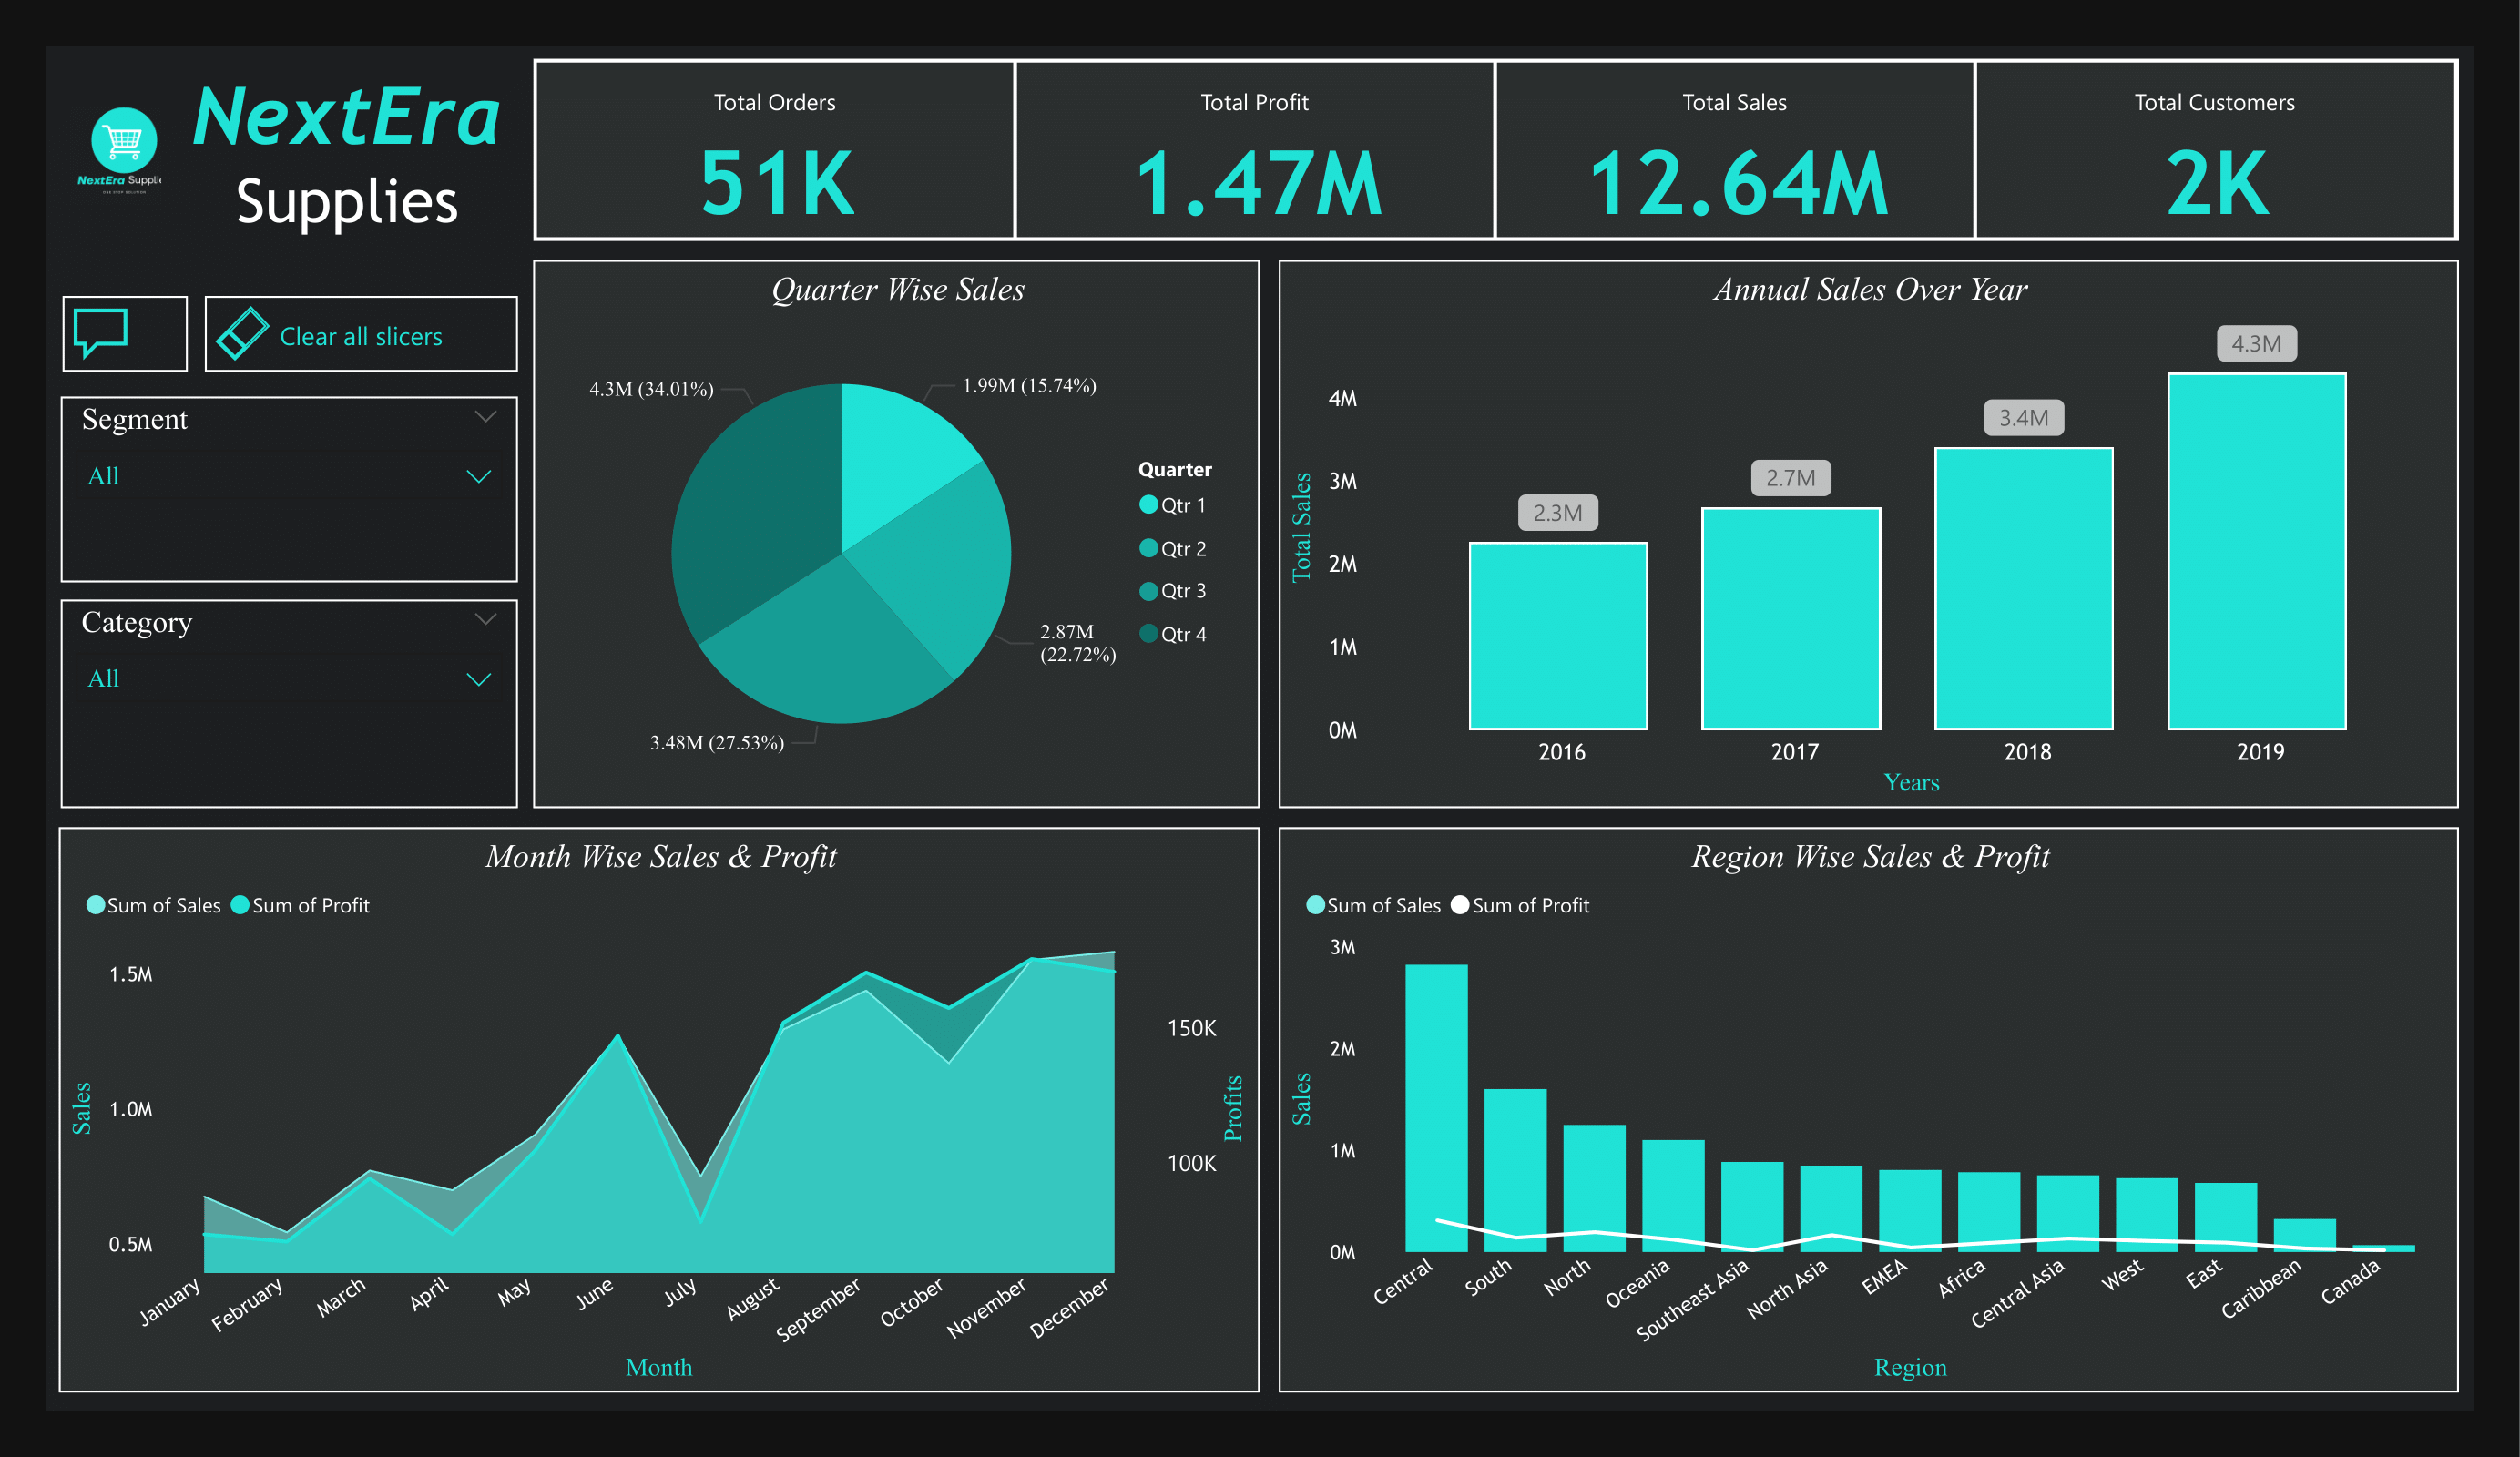

The dashboard page shown, as its layout file describes it:
{"tool":"powerbi","page":{"name":"Page 2","canvas":[1280,720],"ordinal":1},"visuals":[{"type":"cardVisual","fields":{"Data":["Measure Table.Total Orders","Measure Table.Total Profit","Measure Table.Total Sales","Measure Table.Total Customers"]},"box":[257,7,1015.1,96.5],"z":0},{"type":"lineStackedColumnComboChart","title":"Annual Sales Over Year","fields":{"Category":["Orders.Order Date.Variation.Date Hierarchy.Year"],"Y":["Sum(Orders.Sales)"]},"box":[650,112.8,622.1,289.5],"z":1000},{"type":"image","box":[7,22,68,67],"z":2000},{"type":"textbox","box":[61,7,196,97],"z":3000},{"type":"areaChart","title":"Month Wise Sales & Profit","fields":{"Category":["Orders.Order Date.Variation.Date Hierarchy.Month"],"Y":["Sum(Orders.Sales)"],"Y2":["Sum(Orders.Profit)"]},"box":[7,411.6,632.6,298.8],"z":4000},{"type":"lineStackedColumnComboChart","title":"Region Wise Sales & Profit","fields":{"Category":["Orders.Region"],"Y2":["Sum(Orders.Profit)"],"Y":["Sum(Orders.Sales)"]},"box":[650,411.6,622.1,298.8],"z":5000},{"type":"pieChart","title":"Quarter Wise Sales","fields":{"Category":["Orders.Order Date.Variation.Date Hierarchy.Quarter"],"Y":["Sum(Orders.Sales)"]},"box":[257,112.8,382.6,289.5],"z":6000},{"type":"slicer","fields":{"Values":["Orders.Segment"]},"box":[7.2,235.2,239.5,76.5],"z":7000},{"type":"slicer","fields":{"Values":["Orders.Category"]},"box":[8.7,324.6,239.5,77.9],"z":8000},{"type":"actionButton","box":[8.7,131.3,240.9,40.4],"z":9000},{"type":"actionButton","box":[138.5,181.8,108.2,40.4],"z":10000},{"type":"actionButton","box":[8.7,181.8,118.3,40.4],"z":11000}]}

Visuals, with their boxes on the page's 1280x720 design canvas (x1, y1, x2, y2). These are canvas units, not pixel positions in the 2520x1457 screenshot, which may show the page scaled, cropped or inside an application window:
cardVisual - Measure Table.Total Orders x Measure Table.Total Profit: <box>257,7,1272,104</box>
"Annual Sales Over Year" lineStackedColumnComboChart: <box>650,113,1272,402</box>
image: <box>7,22,75,89</box>
textbox: <box>61,7,257,104</box>
"Month Wise Sales & Profit" areaChart: <box>7,412,640,710</box>
"Region Wise Sales & Profit" lineStackedColumnComboChart: <box>650,412,1272,710</box>
"Quarter Wise Sales" pieChart: <box>257,113,640,402</box>
slicer - Orders.Segment: <box>7,235,247,312</box>
slicer - Orders.Category: <box>9,325,248,402</box>
actionButton: <box>9,131,250,172</box>
actionButton: <box>138,182,247,222</box>
actionButton: <box>9,182,127,222</box>
